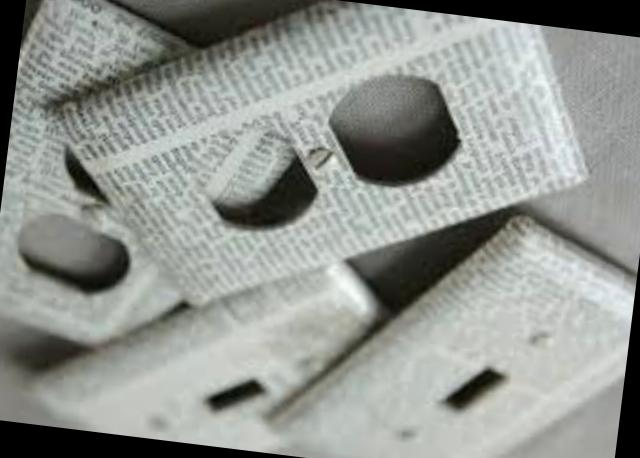cardboard paper: (346, 25, 640, 314), (105, 0, 315, 49), (504, 382, 624, 458), (0, 322, 74, 428)
